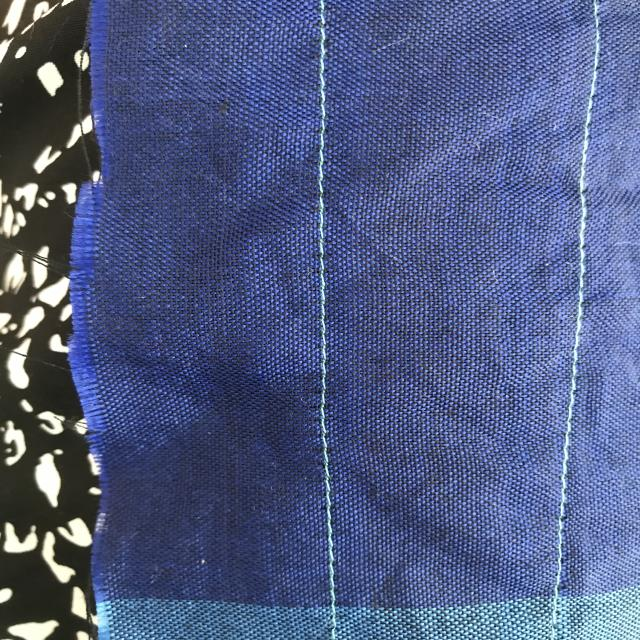good: (313, 298, 336, 480)
